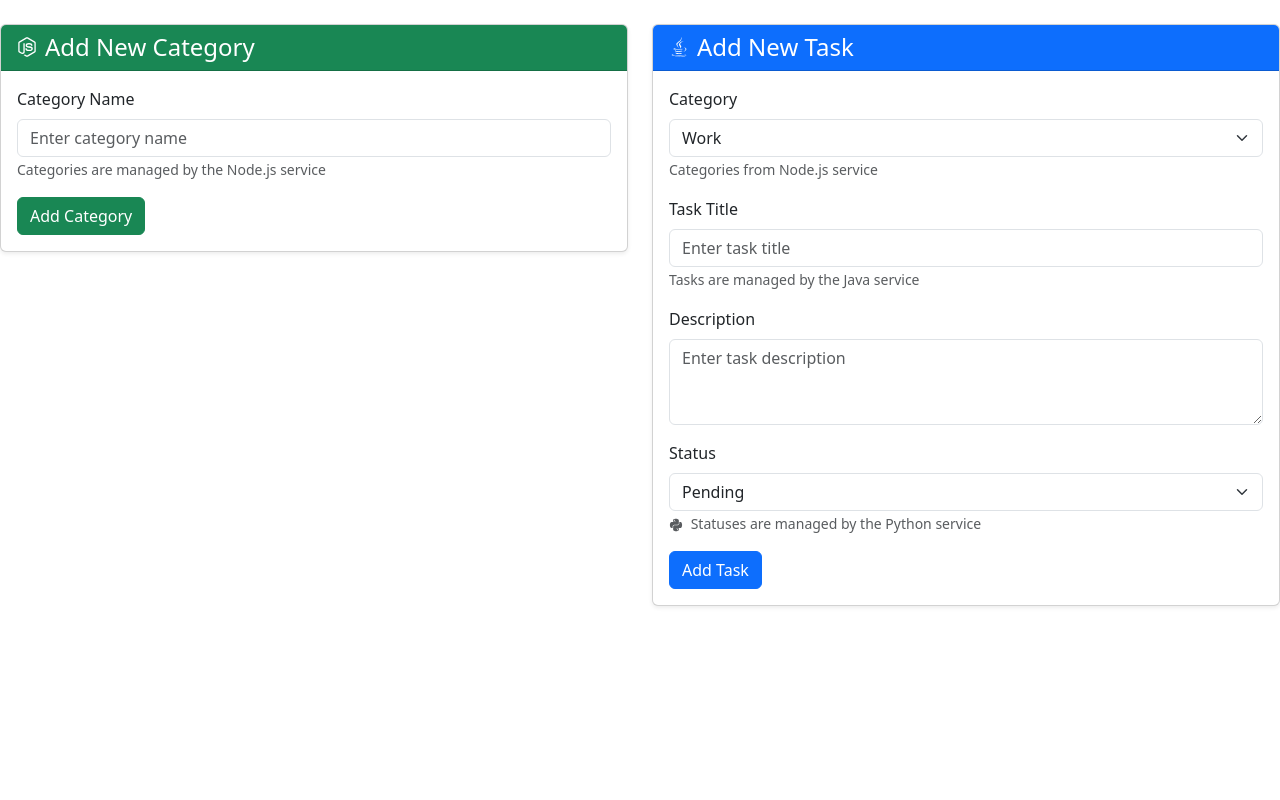
Test: AddTodoForm Component › shows success message after adding a category
This screenshot has width=1280, height=800.
// Fill in the category name and submit
Type "New Category" into the field with placeholder "Enter category name" at (314, 138), box x1=17 y1=119 x2=611 y2=157
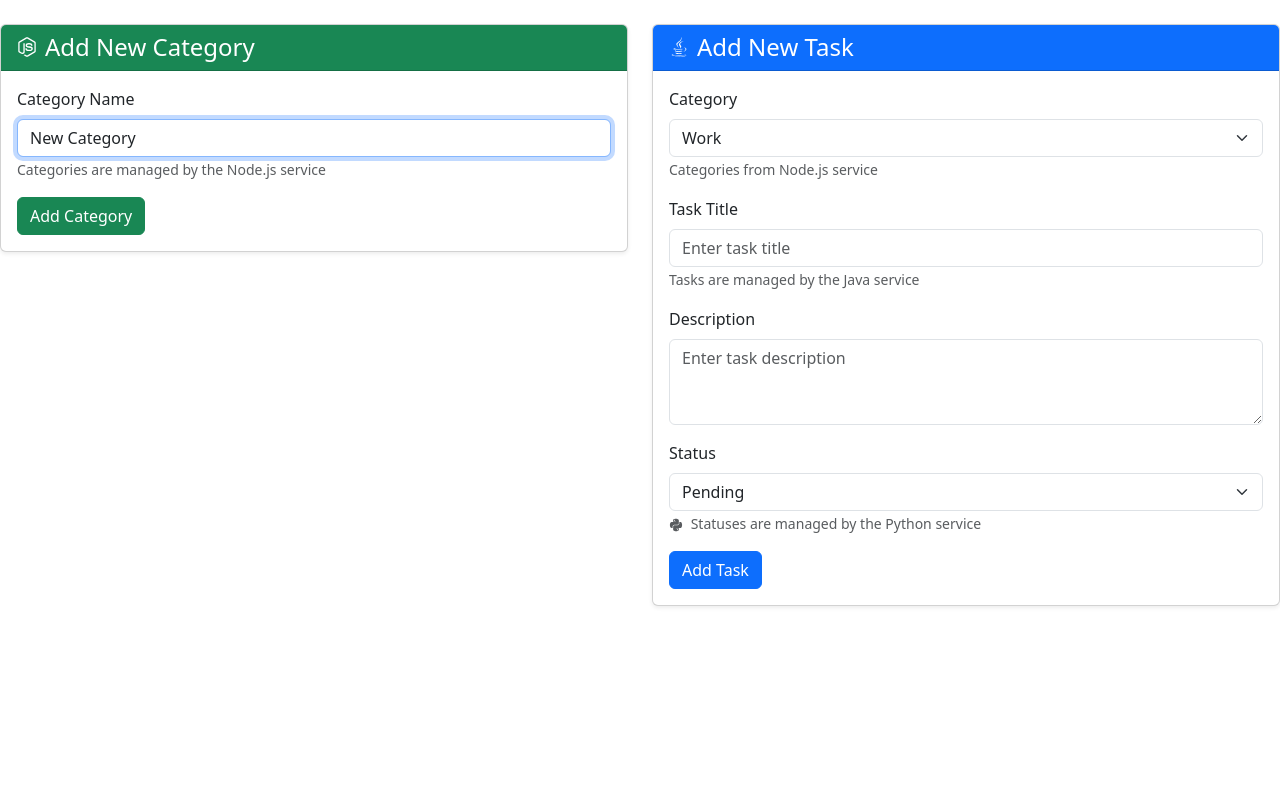
Click the button "Add Category" at (81, 216), box x1=17 y1=197 x2=145 y2=235
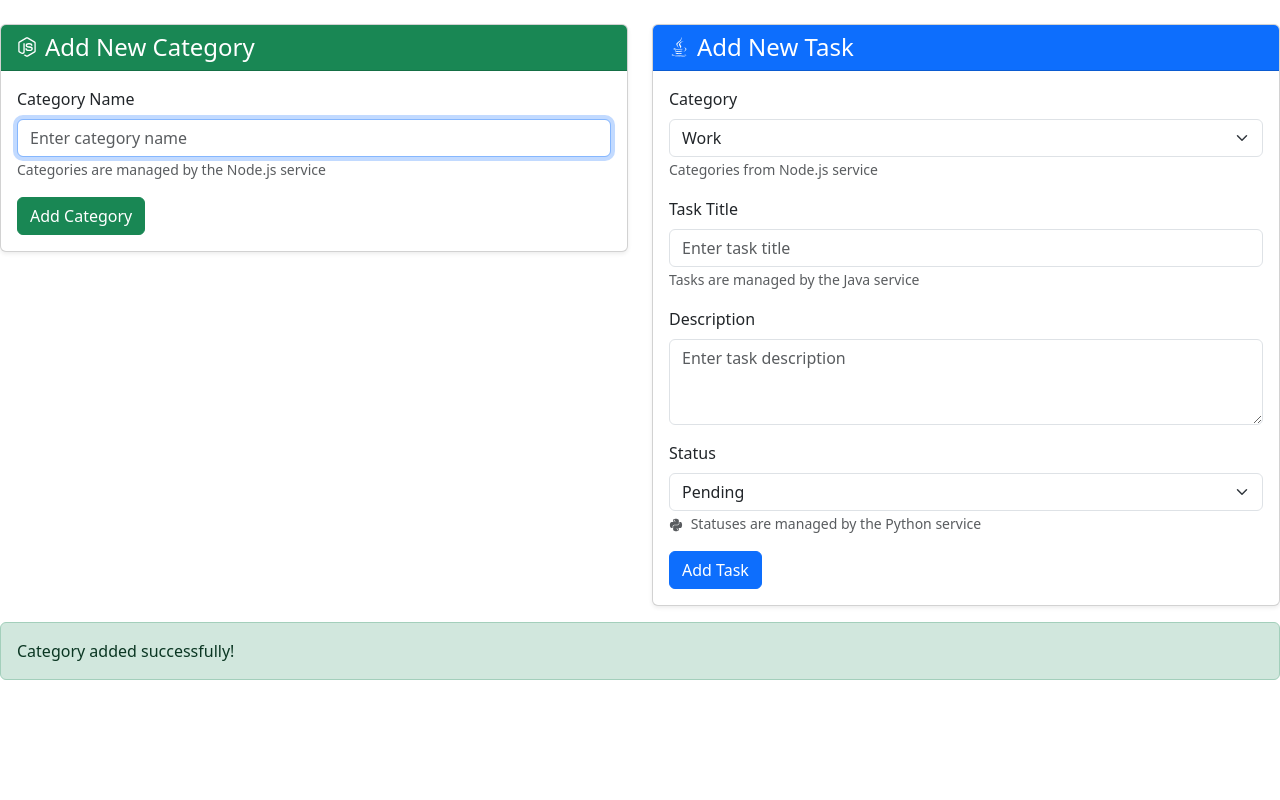
Check: the text "Category added successfully!" is shown, box x1=0 y1=622 x2=1279 y2=680
